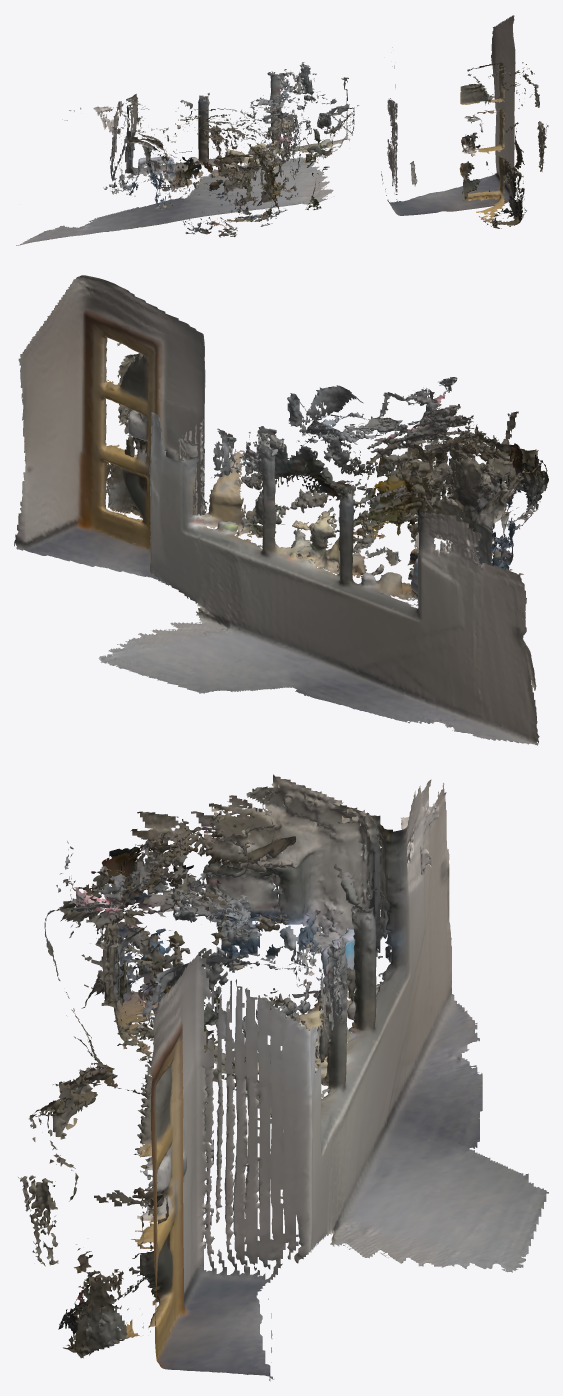
The model's file is scan-0f58cc9c78a5.glb.
3 renders of one model, top to bottom at view 1: azimuth 30°, elevation 25°; view 2: azimuth 150°, elevation 25°; view 3: azimuth 270°, elevation 25°, orthographic. The views are drawn at different scales.
Bounding box in the file's own units: 7.31 × 3.28 × 4.19.
